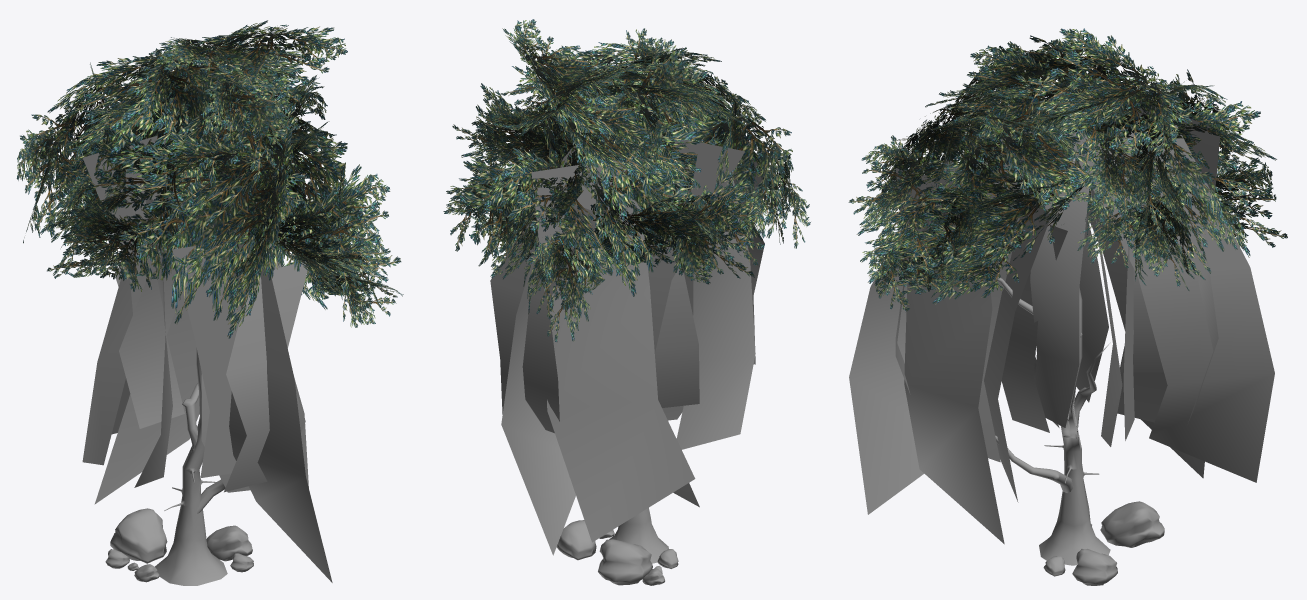
Rendered from stortree_lod0.fbx.
3 renders of one model, left to right at view 1: azimuth 30°, elevation 25°; view 2: azimuth 150°, elevation 25°; view 3: azimuth 270°, elevation 25°, orthographic. The views are drawn at different scales.
Visible parts, largest first — view 1: Default_Layer; view 2: Default_Layer; view 3: Default_Layer.
Part boxes in pixels (box(x1,y1,x2,y2)): Default_Layer: box(16, 20, 403, 585); Default_Layer: box(443, 19, 810, 585); Default_Layer: box(848, 28, 1287, 585).
Bounding box in the file's own units: 867 × 1352 × 1061.
